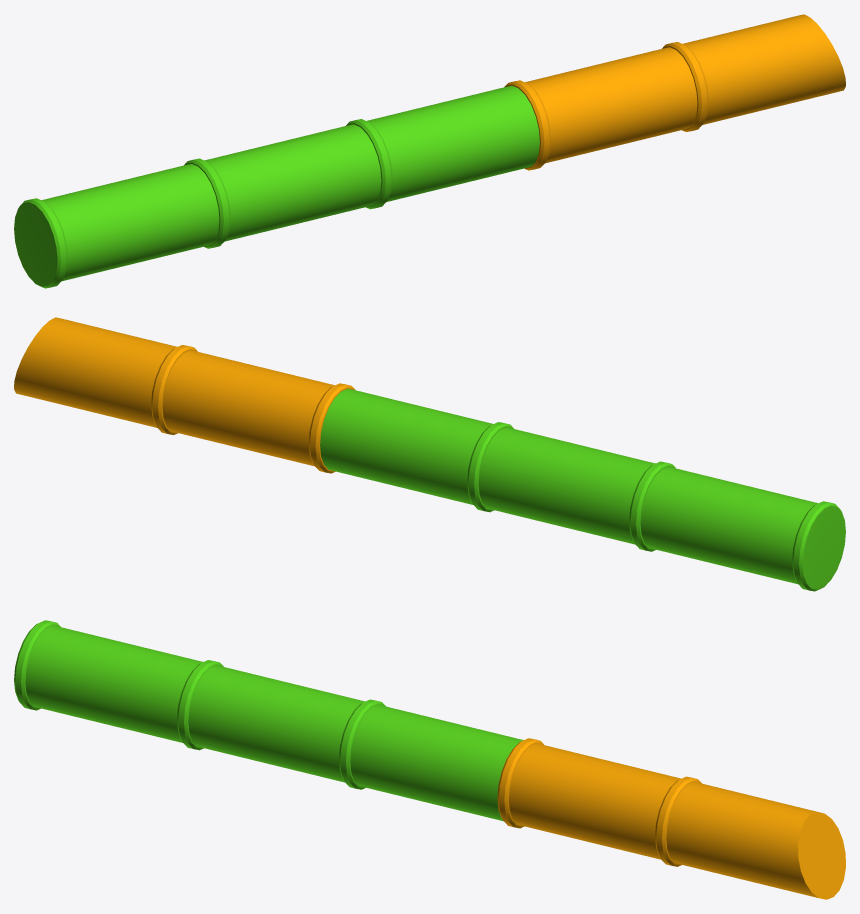
Rendered from Bamboo_Top.fbx.
3 views of the same model, one above another, from view 1: azimuth 30°, elevation 25°; view 2: azimuth 150°, elevation 25°; view 3: azimuth 330°, elevation 25° (orthographic).
Visible parts, largest first — view 1: Bamboo_Top; view 2: Bamboo_Top; view 3: Bamboo_Top.
Part boxes in pixels (left/top/right/bottom): Bamboo_Top: left=14, top=14, right=845, bottom=288; Bamboo_Top: left=14, top=317, right=845, bottom=591; Bamboo_Top: left=14, top=620, right=845, bottom=899.
Bounding box in the file's own units: 2.63 × 0.2609 × 0.2609.
